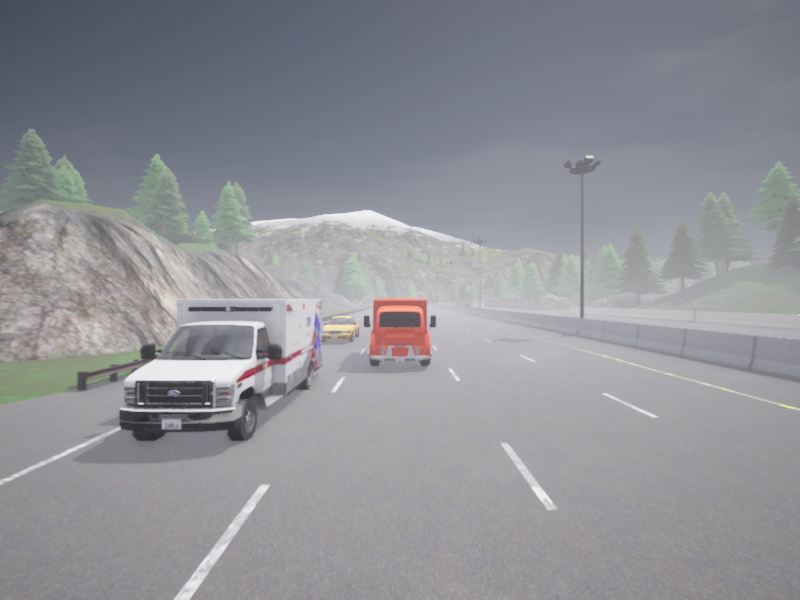vehicle: (119, 299, 322, 440), (364, 298, 435, 366), (322, 314, 359, 342), (462, 302, 469, 306), (468, 300, 473, 304), (455, 302, 459, 305)
